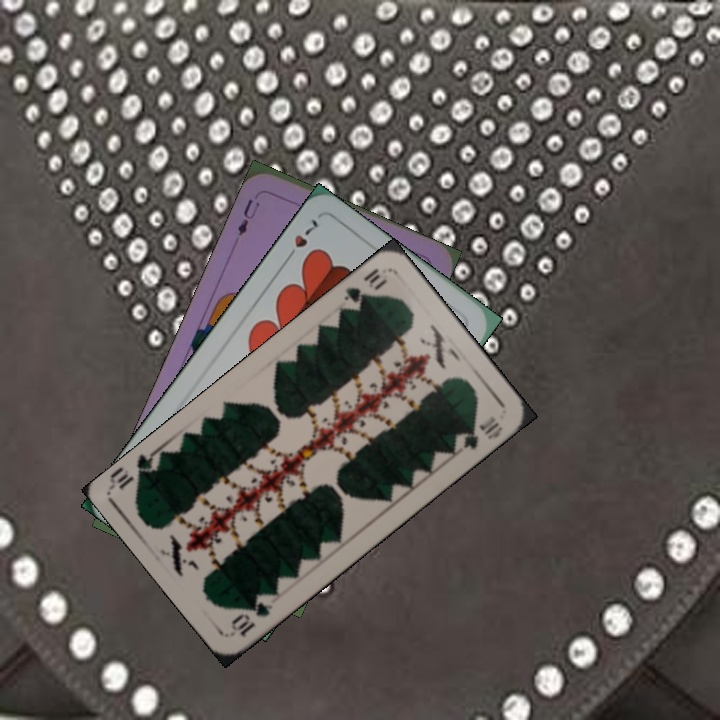EU: (233, 195, 263, 239)
G10: (339, 264, 390, 313), (226, 597, 276, 640)
H7: (281, 214, 321, 265)
